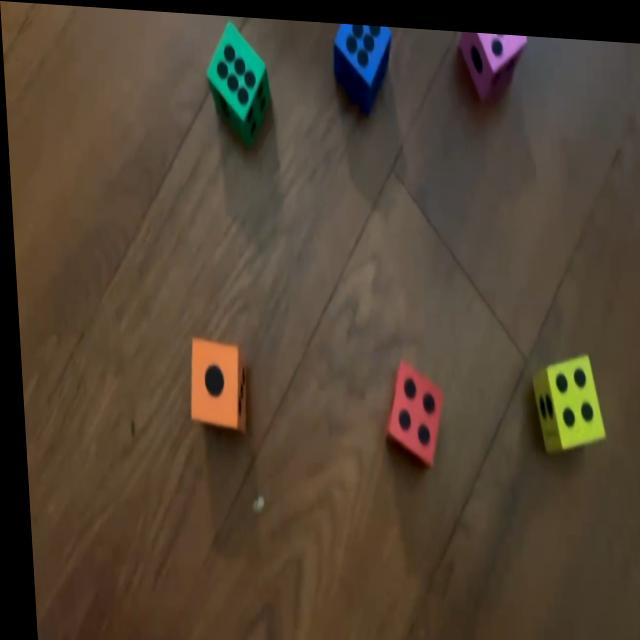cube: (205, 14, 271, 143), (376, 353, 441, 465), (332, 17, 396, 112)
